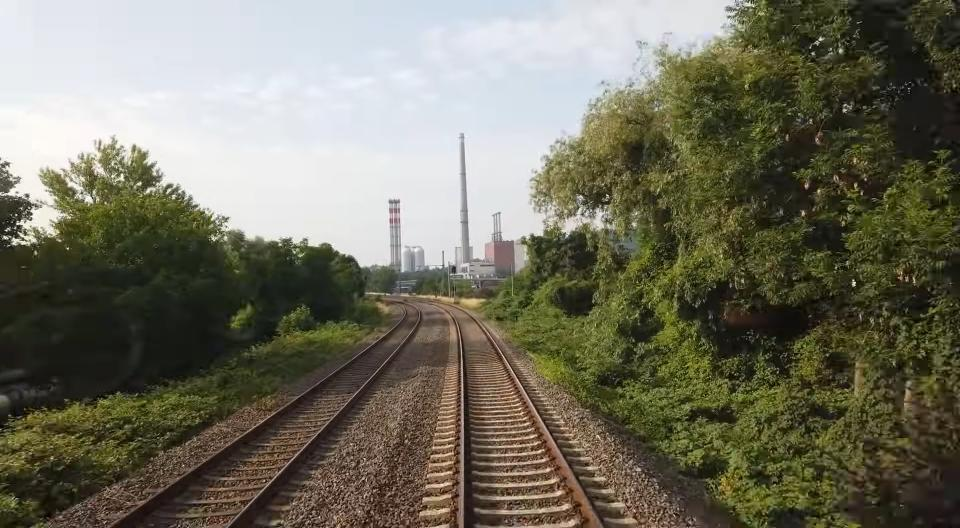Plant: (504, 323, 588, 401)
